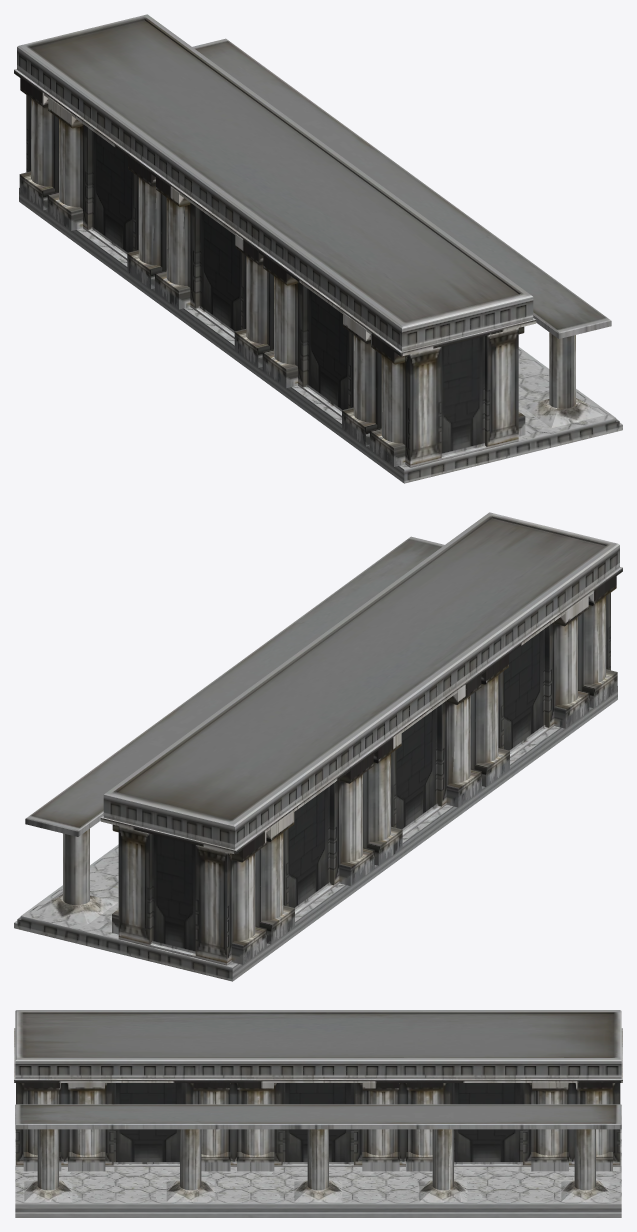
File: s_promenade_cad.glb
3 views of the same model, one above another, from view 1: azimuth 30°, elevation 25°; view 2: azimuth 150°, elevation 25°; view 3: azimuth 270°, elevation 25° (orthographic). The views are drawn at different scales.
Parts seen in each view (by area): view 1: S_Prom; view 2: S_Prom; view 3: S_Prom.
Boxes of the visible parts, x1=… form: S_Prom: x1=14, y1=14, x2=622, y2=483; S_Prom: x1=14, y1=512, x2=622, y2=981; S_Prom: x1=14, y1=1010, x2=622, y2=1217.
Size of the model in its own units: 8.57 by 5.74 by 25.67.
1 material, 1 textured.
